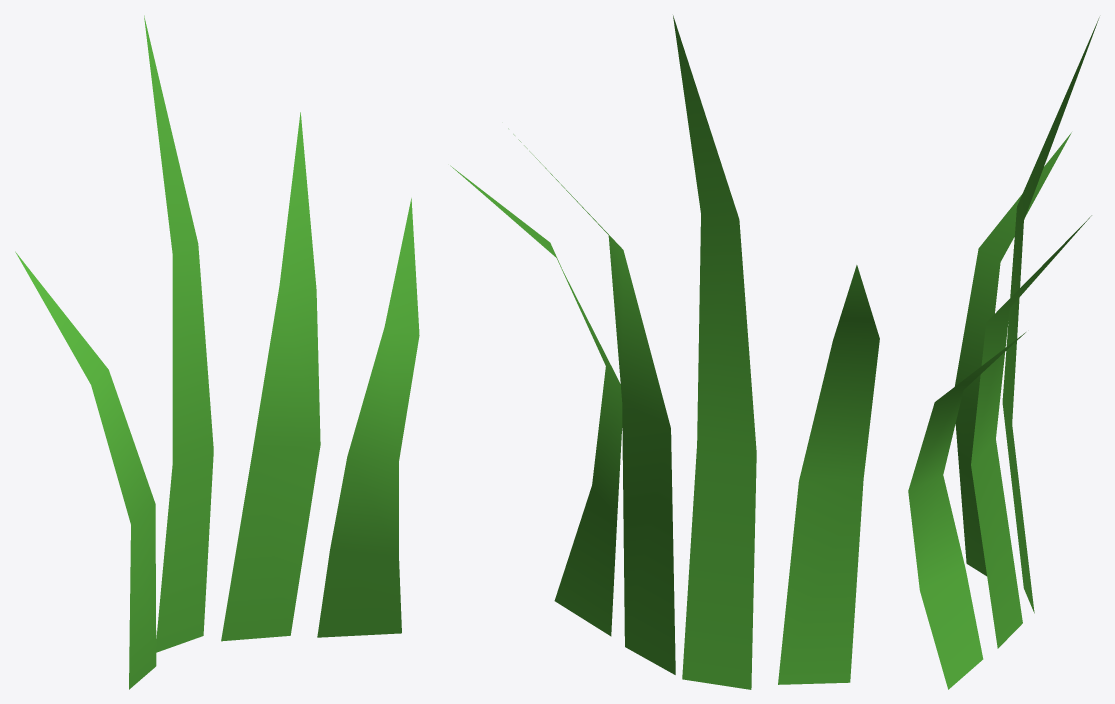
Rendered from Grass_15.fbx.
The picture shows the model from 3 angles, left to right: view 1: azimuth 30°, elevation 25°; view 2: azimuth 150°, elevation 25°; view 3: azimuth 270°, elevation 25°; orthographic projection. The views are drawn at different scales.
Visible parts, largest first — view 1: Grass_15; view 2: Grass_15; view 3: Grass_15.
Boxes of the visible parts, x1,y1,x2,y2 form: Grass_15: (15, 15, 419, 689); Grass_15: (450, 15, 879, 689); Grass_15: (908, 17, 1099, 689).
Bounding box in the file's own units: 78.44 × 122 × 35.87.
